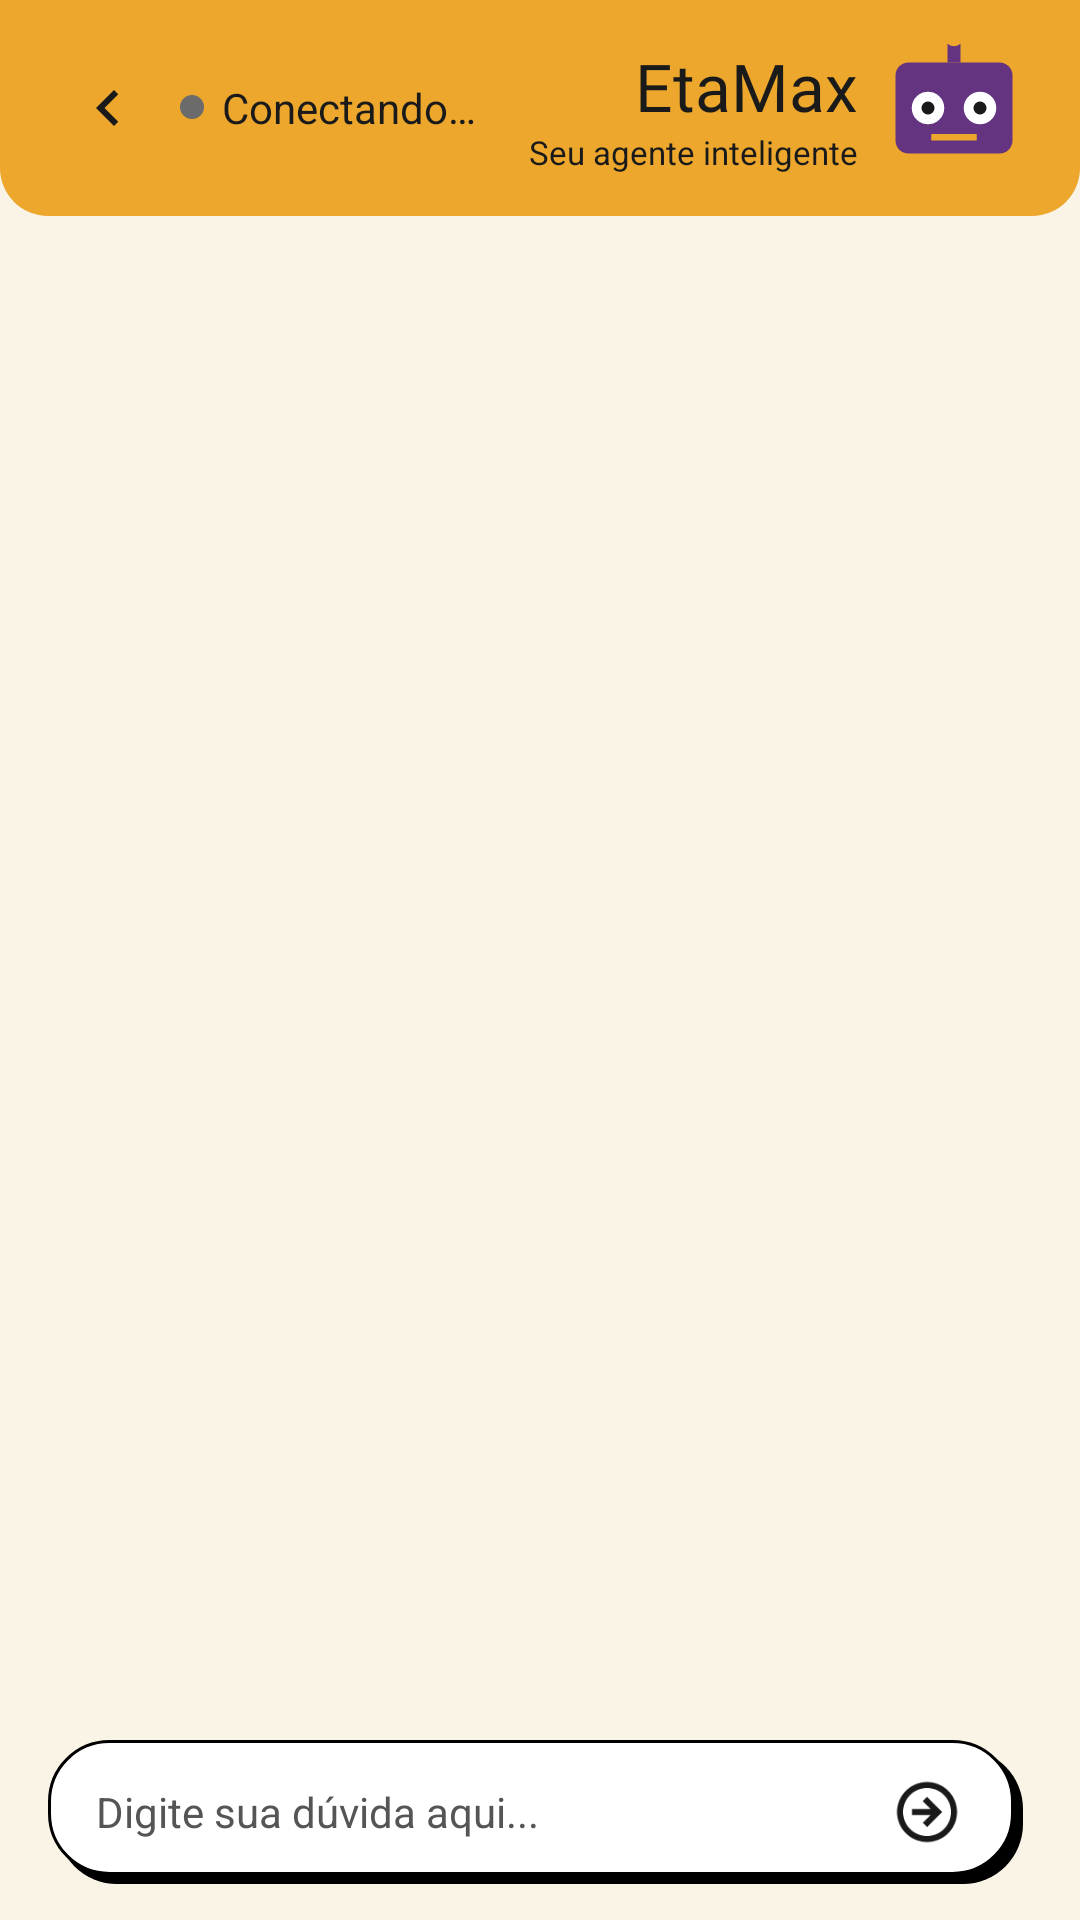

Where to tap for icons on this 1080 × 1920 app screen, as (x=x, y=y):
Enviar mensagem: (x=927, y=1812)
Voltar: (x=107, y=108)
